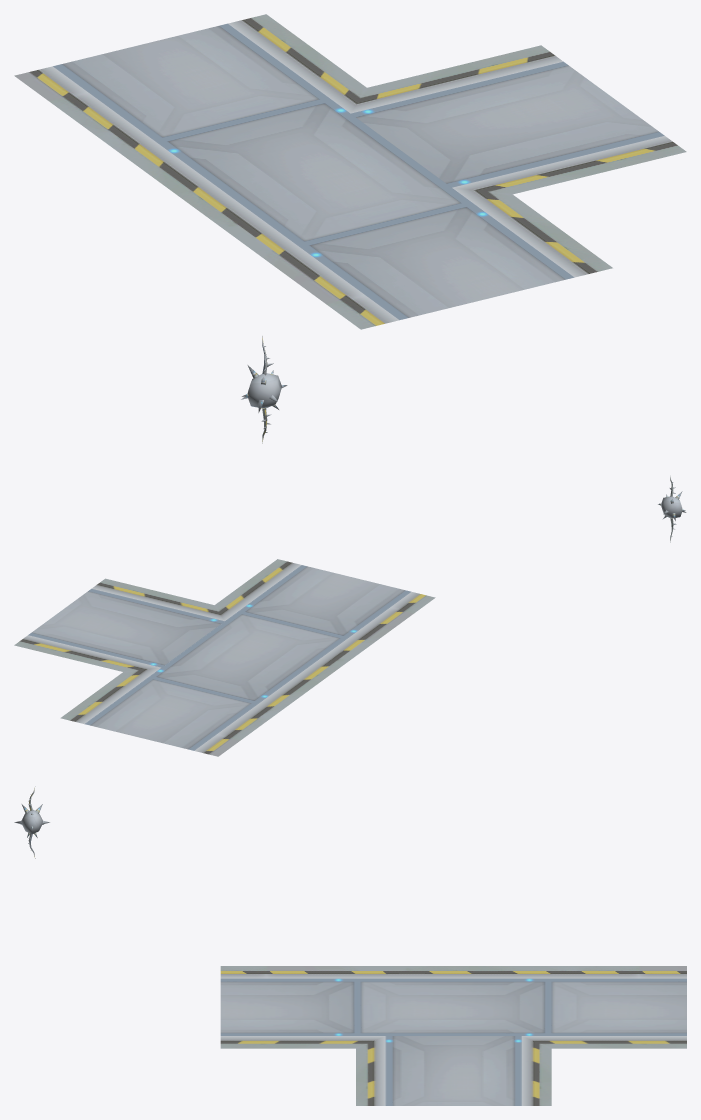
Rendered from Combined_Mesh_root_scene__13_e7023e4f__ZombiesII_laboratory_05_d_57b6b985_c1f257.obj.
3 views of the same model, one above another, from view 1: azimuth 30°, elevation 25°; view 2: azimuth 150°, elevation 25°; view 3: azimuth 270°, elevation 25° (orthographic). The views are drawn at different scales.
Size of the model in its own units: 22.83 by 4.89 by 28.86.
2 materials, 2 textured.
